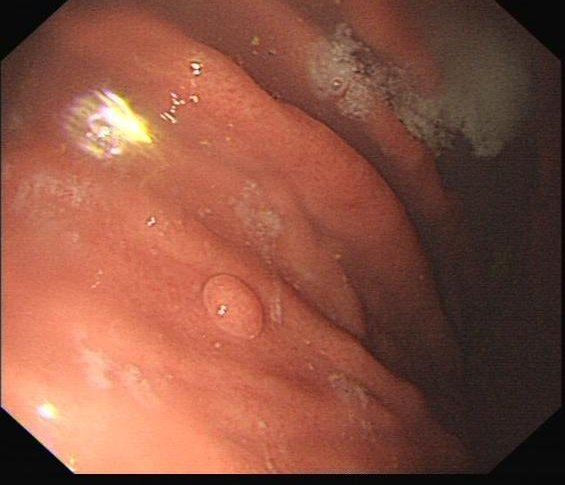Polyp: (193, 260, 290, 355)
